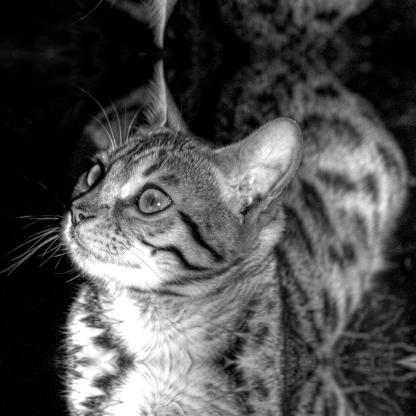Cat: (0, 53, 410, 361)
